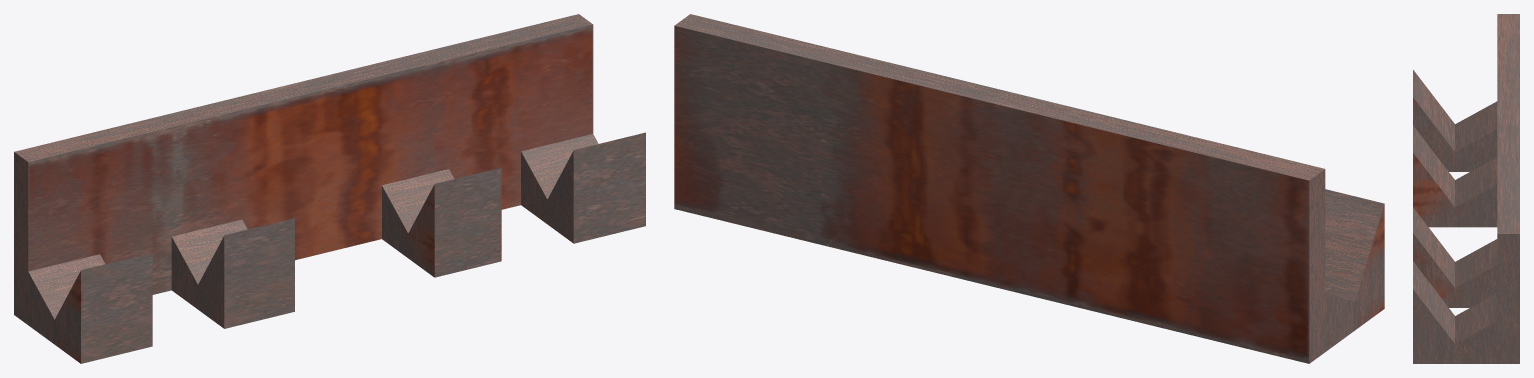
The model's file is parachoque.glb.
The picture shows the model from 3 angles, left to right: view 1: azimuth 30°, elevation 25°; view 2: azimuth 150°, elevation 25°; view 3: azimuth 270°, elevation 25°; orthographic projection. The views are drawn at different scales.
Parts seen in each view (by area): view 1: Cube.003; view 2: Cube.003; view 3: Cube.003.
Part boxes in pixels (x1,y1,x2,y2): Cube.003: (14, 14, 645, 363); Cube.003: (674, 14, 1384, 363); Cube.003: (1413, 14, 1519, 363).
Size of the model in its own units: 2.93 by 0.8089 by 0.6019.
Materials: 1 (1 with a texture image).
